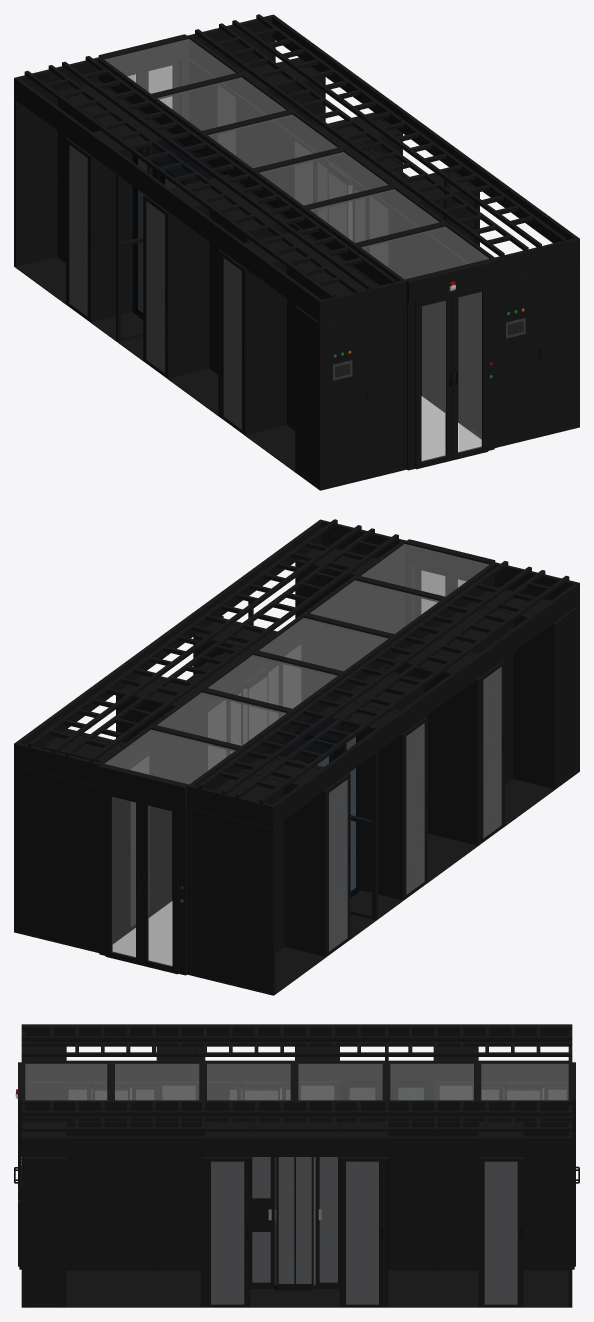
File: WMK1.FBX
3 views of the same model, one above another, from view 1: azimuth 30°, elevation 25°; view 2: azimuth 150°, elevation 25°; view 3: azimuth 270°, elevation 25° (orthographic). The views are drawn at different scales.
Visible parts, largest first — view 1: 微模块1; view 2: 微模块1; view 3: 微模块1.
Part boxes in pixels (x1,y1,x2,y2): 微模块1: (14, 14, 579, 490); 微模块1: (14, 519, 579, 995); 微模块1: (14, 1024, 579, 1307).
Bounding box in the file's own units: 3607 × 2550 × 7554.
14 materials, 2 textured.
